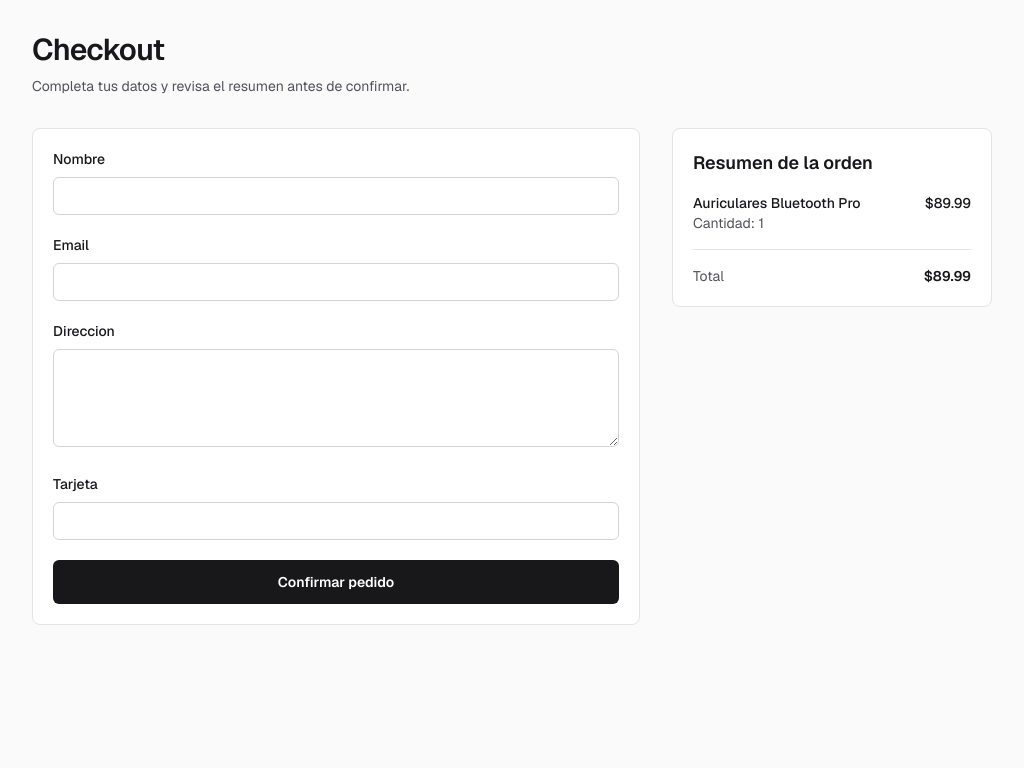
Test case: CheckoutPage › confirma el pedido, muestra exito y vacia el carrito
The width and height of the screenshot is (1024, 768).
In the field labelled "Nombre": (336, 196) [53,177,619,215], type "Ada Lovelace"
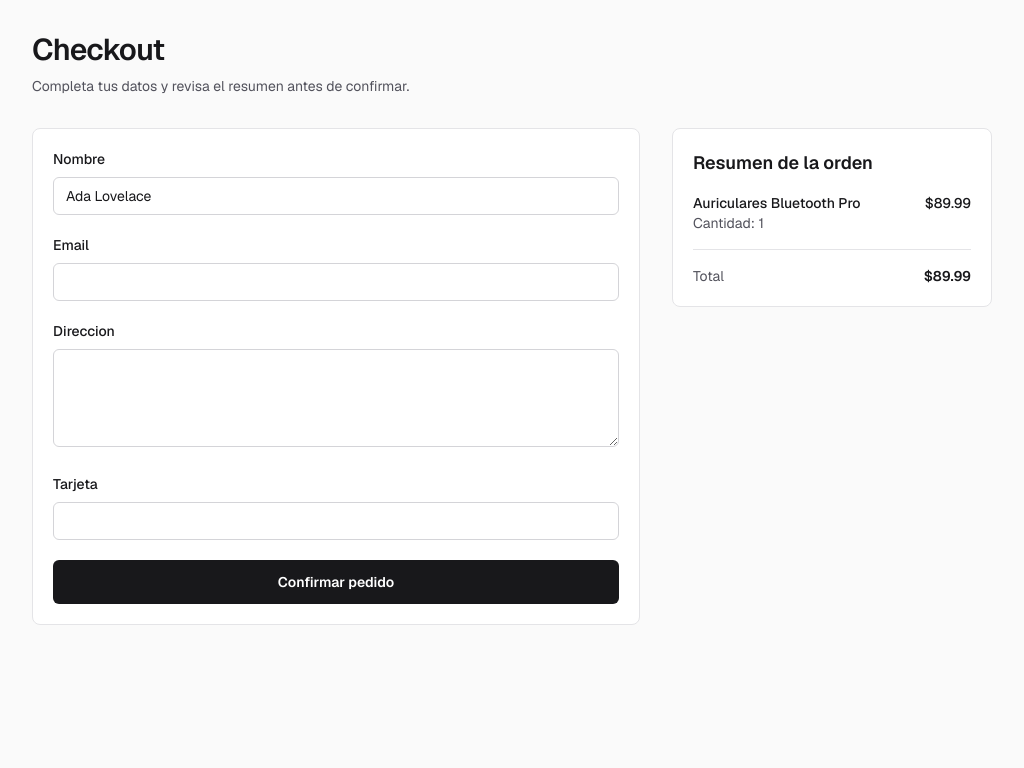
In the field labelled "Email": (336, 282) [53,263,619,301], type "ada@example.com"
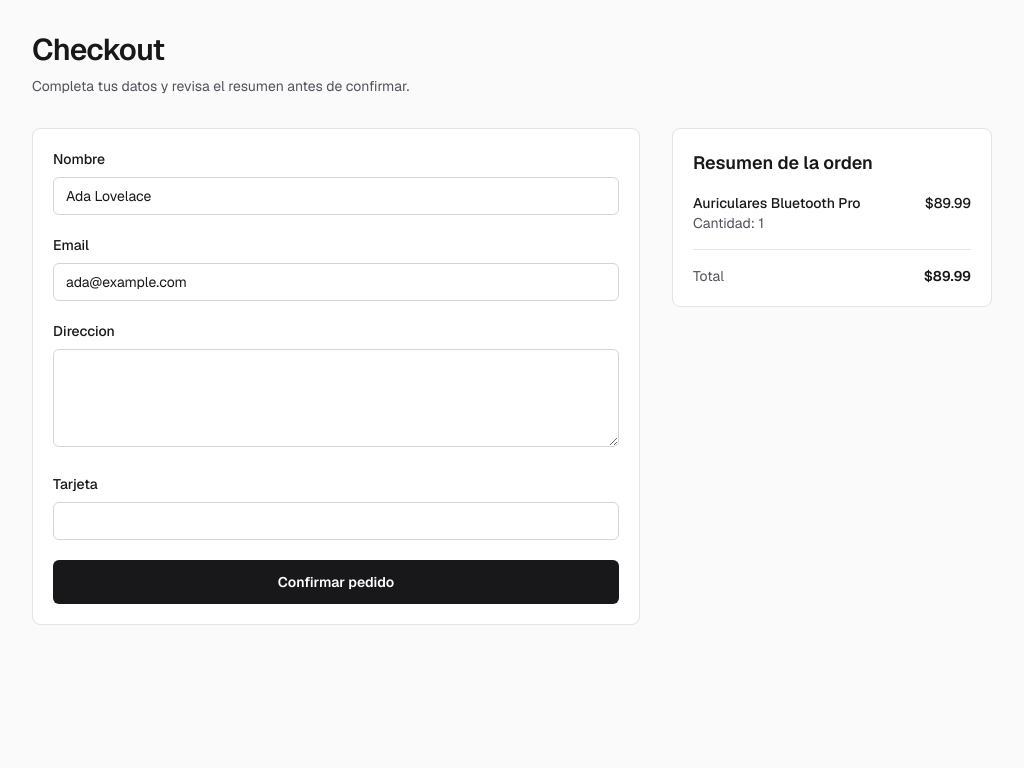
In the text box labelled "Direccion": (336, 398) [53,349,619,447], type "Calle 123"
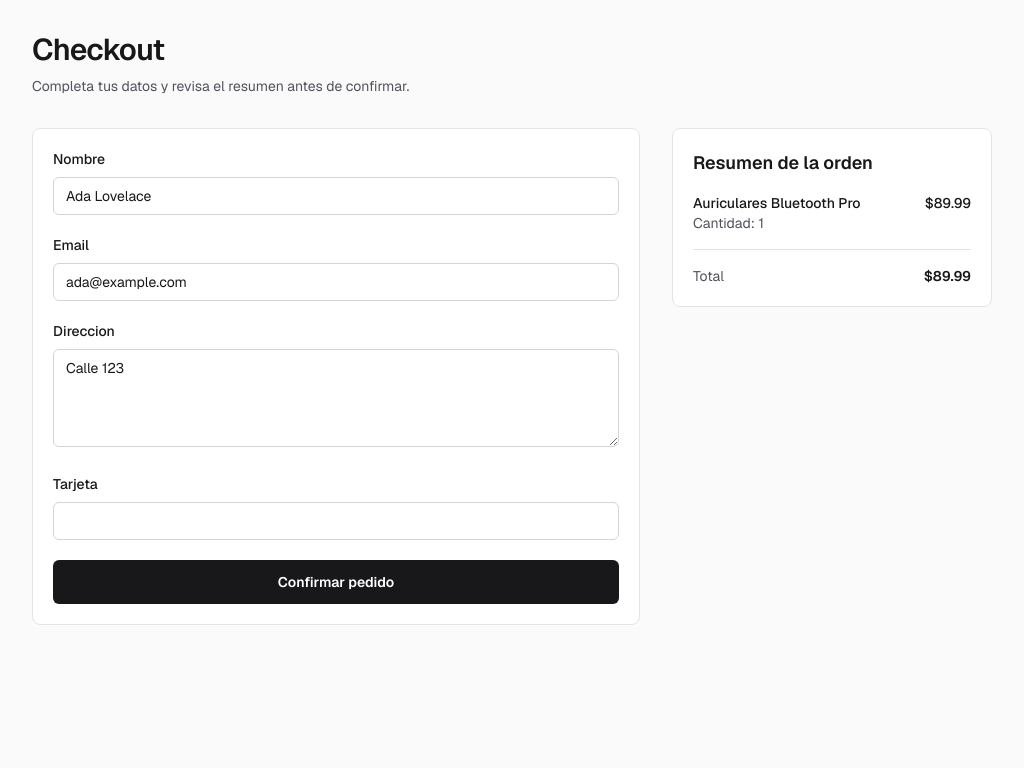
In the field labelled "Tarjeta": (336, 521) [53,502,619,540], type "4242 4242 4242 4242"
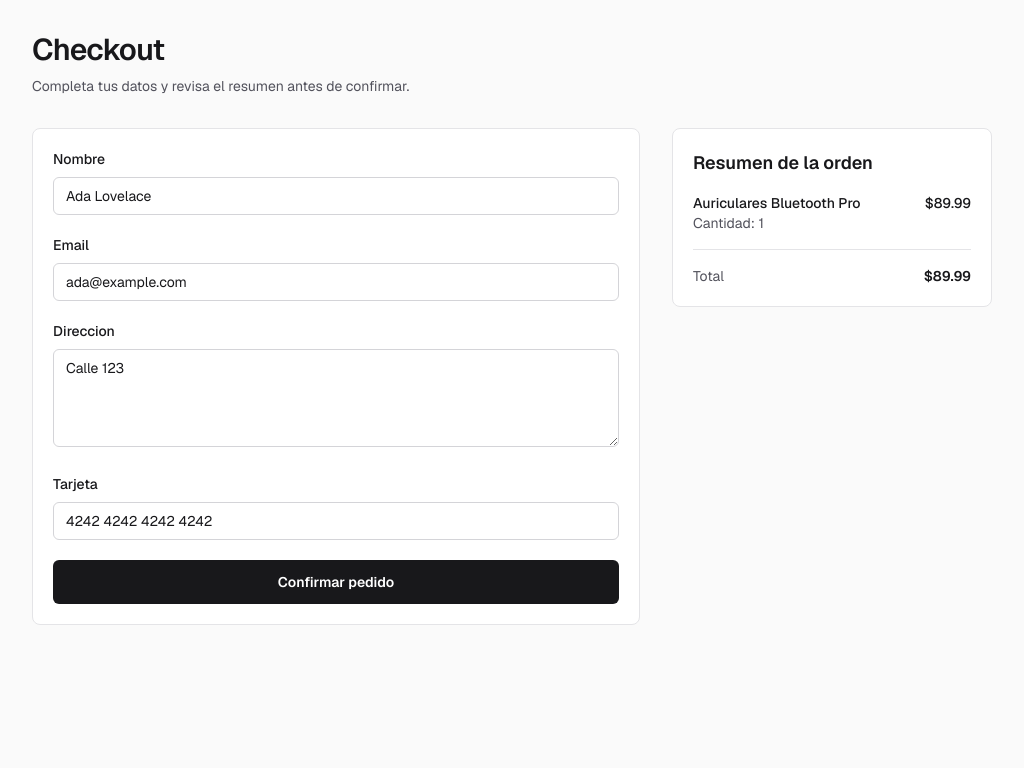
Click the button "Confirmar pedido": (336, 582) [53,560,619,604]
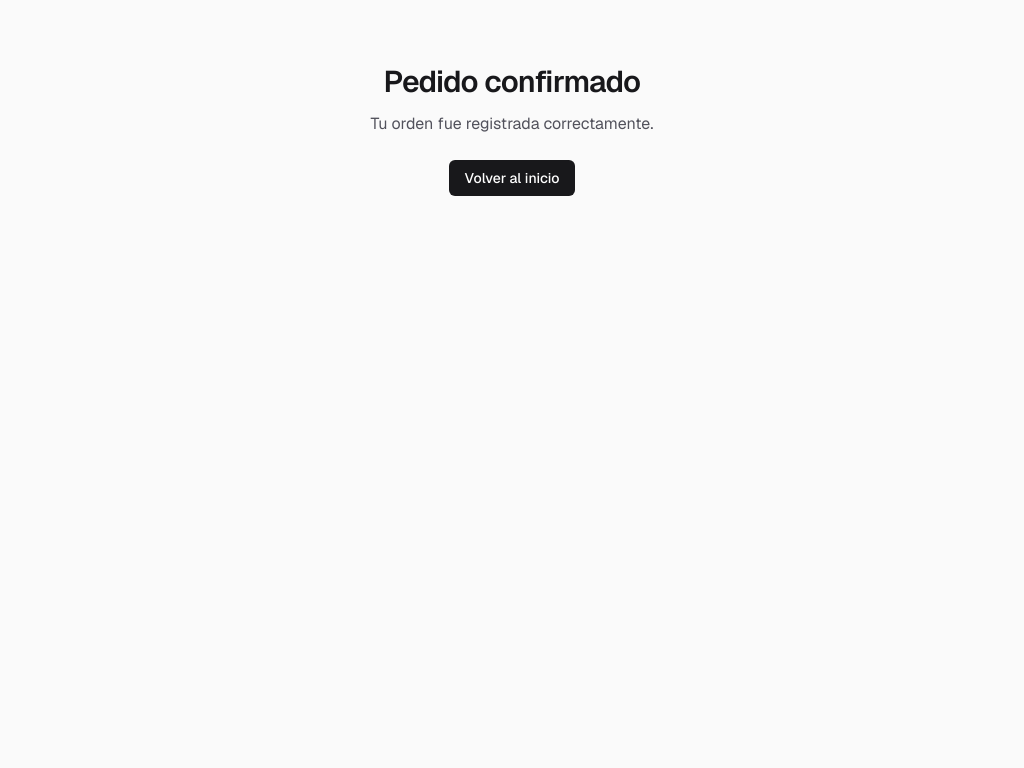
Expected: the heading "Pedido confirmado" is shown, [384,64,640,100]
Expected: the text "Tu orden fue registrada correctamente." is shown, [371,112,653,136]
